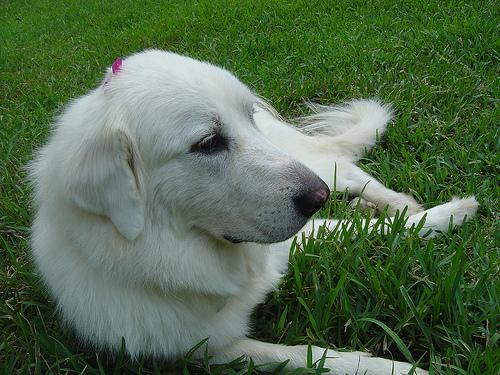Great_Pyrenees: (19, 47, 480, 374)
